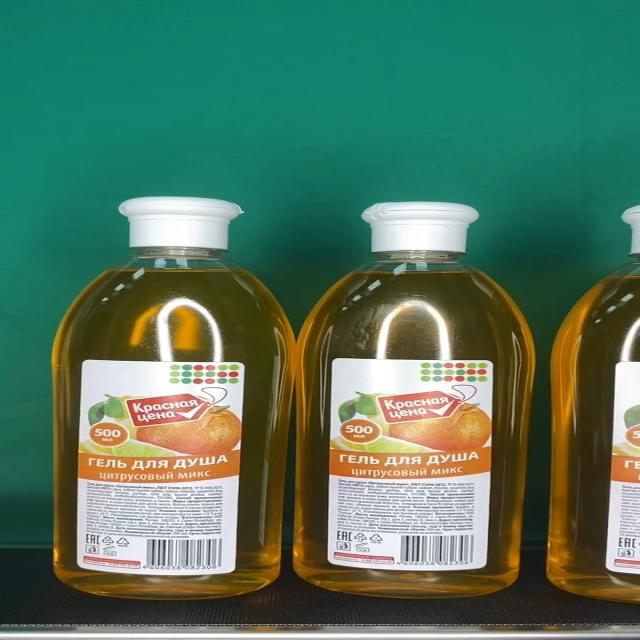Bottle: (293, 202, 538, 600), (53, 196, 294, 600)
Cap: (119, 198, 244, 248), (359, 202, 478, 253)
